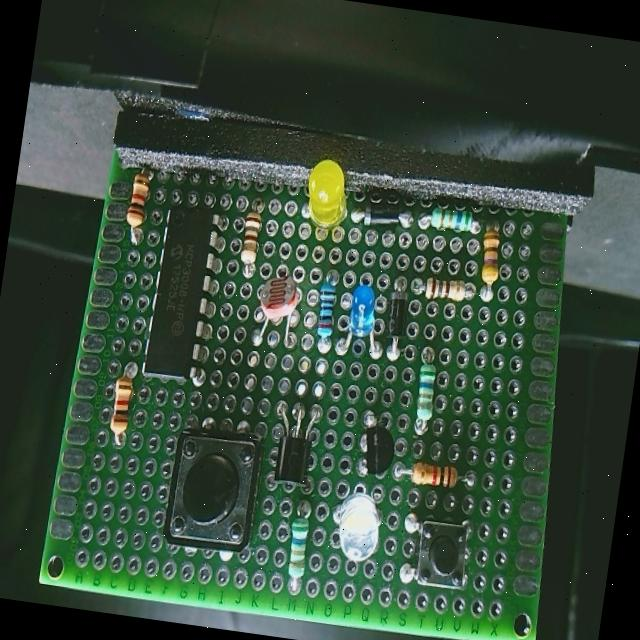IC: (136, 194, 232, 393)
cds: (244, 259, 313, 362)
diode: (376, 264, 418, 367), (344, 191, 421, 238)
led: (320, 478, 395, 570), (331, 270, 396, 370), (294, 146, 361, 242)
resistor: (276, 489, 318, 605), (304, 255, 346, 362), (389, 448, 482, 494), (118, 157, 161, 256), (404, 341, 444, 442), (104, 348, 142, 452), (408, 261, 482, 314), (469, 212, 510, 306), (226, 194, 268, 284), (411, 196, 485, 240)
switch: (150, 411, 270, 570), (392, 502, 478, 598)
transistor: (261, 391, 326, 492), (346, 403, 406, 479)
